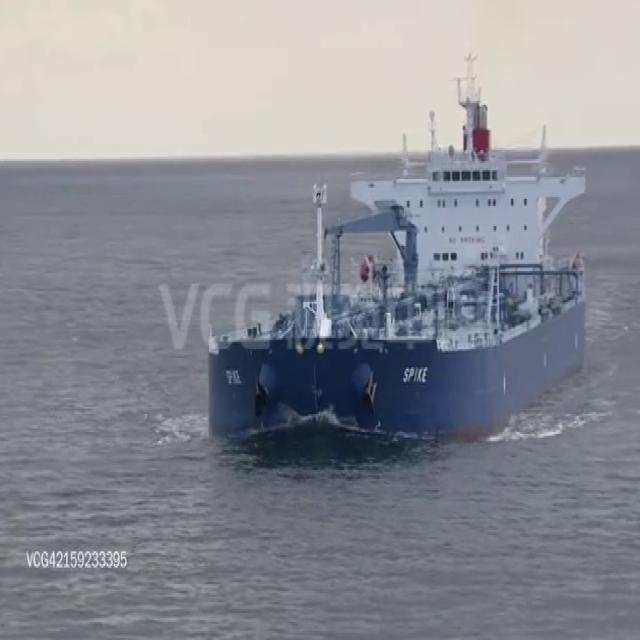cargoship: (191, 87, 585, 441)
